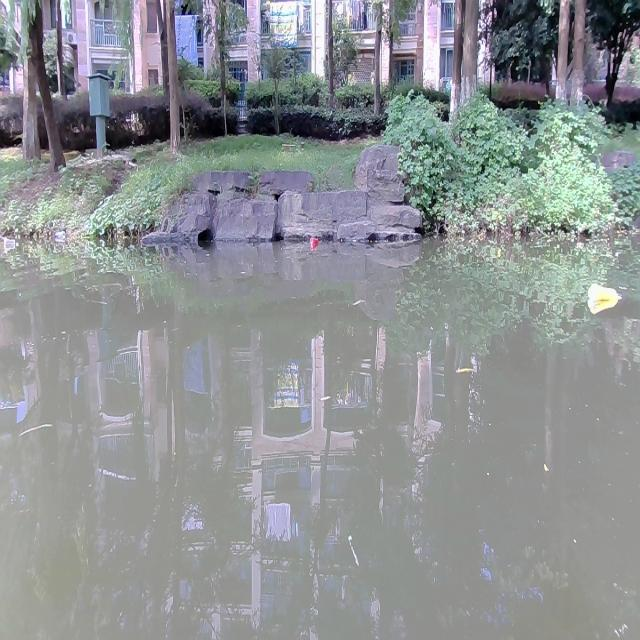bottle: (586, 281, 624, 305), (308, 235, 318, 249)
